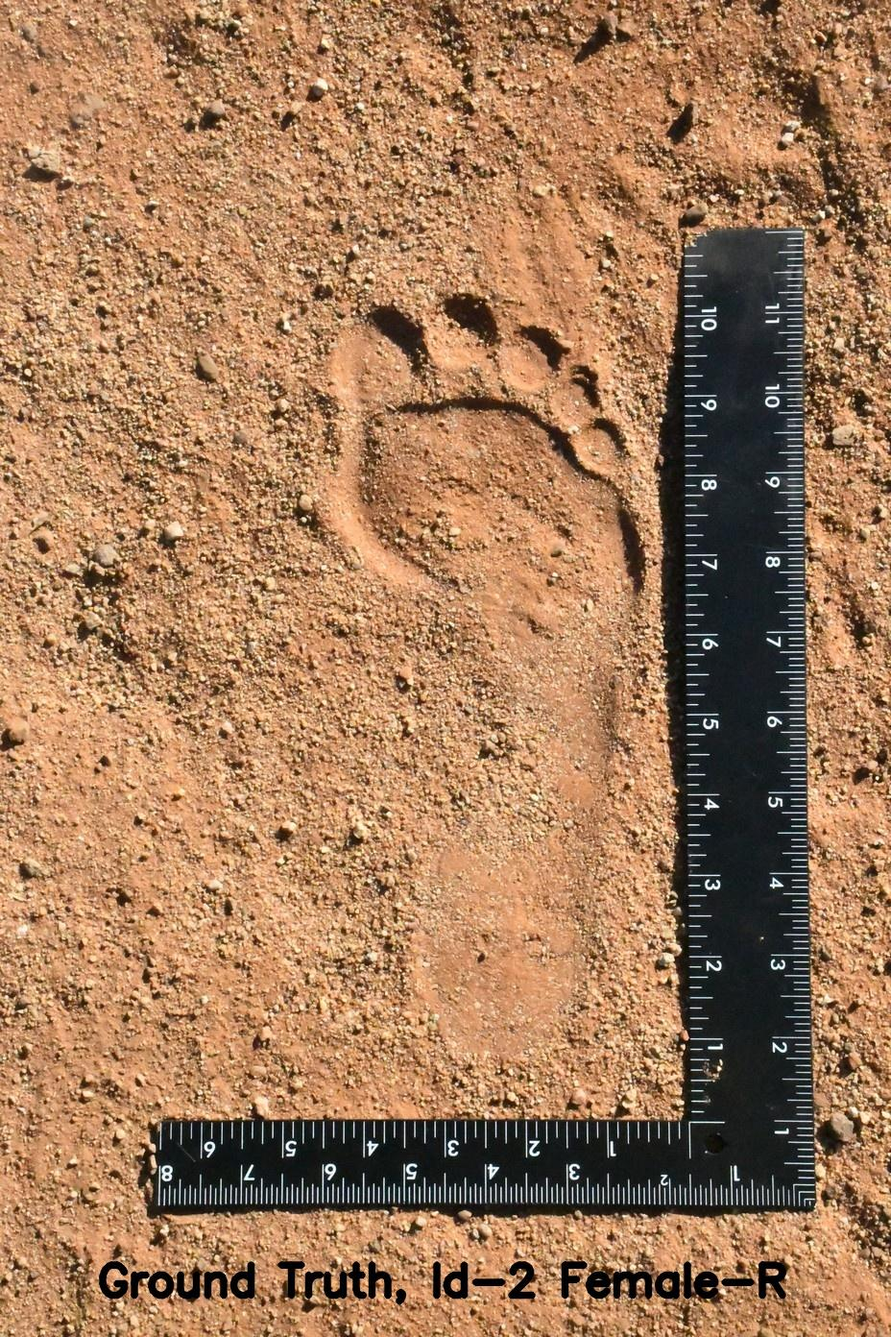human_footprint: (301, 254, 666, 1098)
